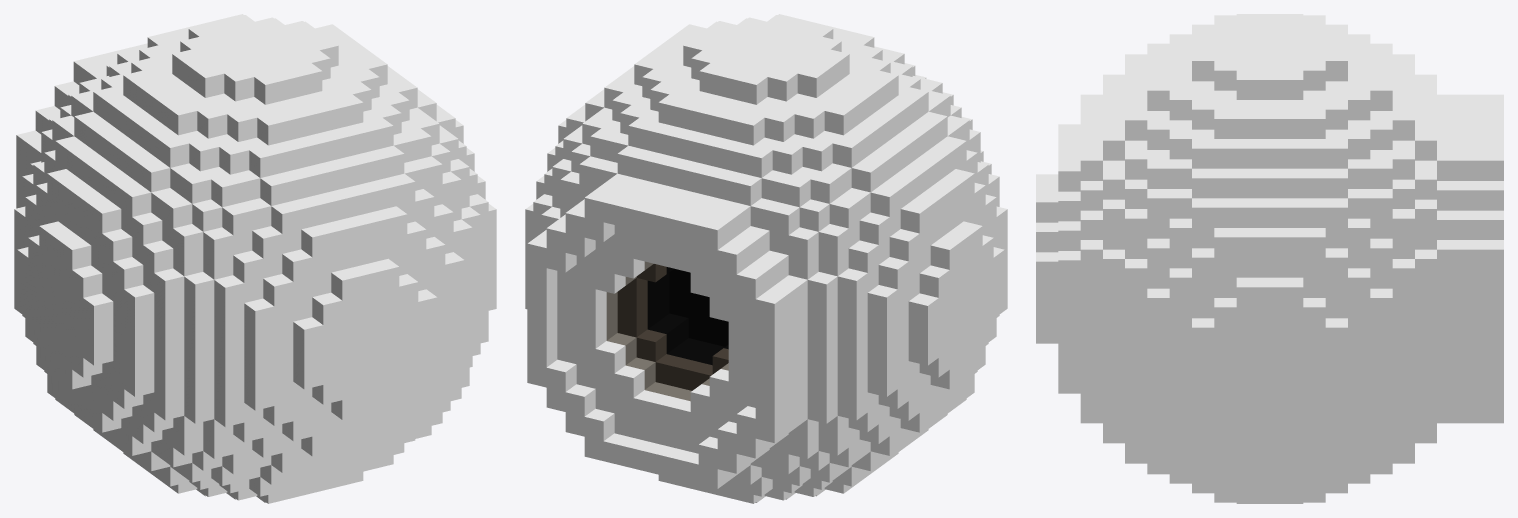
The model's file is spider nest.obj.
3 views of the same model, side by side, from view 1: azimuth 30°, elevation 25°; view 2: azimuth 150°, elevation 25°; view 3: azimuth 270°, elevation 25° (orthographic).
Bounding box in the file's own units: 2.1 × 2.1 × 2.1.
1 material, 1 textured.
